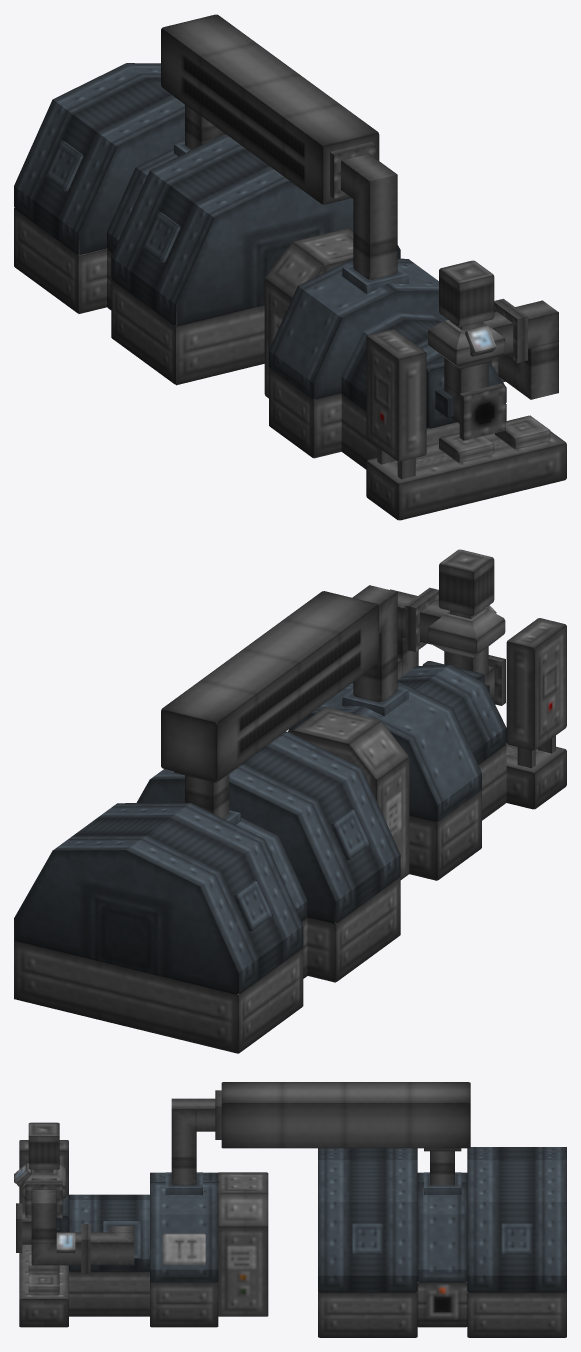
Rendered from steam_turbine_mirrored.obj.
3 views of the same model, one above another, from view 1: azimuth 30°, elevation 25°; view 2: azimuth 150°, elevation 25°; view 3: azimuth 270°, elevation 25° (orthographic). The views are drawn at different scales.
Parts seen in each view (by area): view 1: cube; view 2: cube; view 3: cube.
Boxes of the visible parts, left/top/right/bottom form: cube: left=14, top=14, right=566, bottom=520; cube: left=14, top=549, right=566, bottom=1053; cube: left=14, top=1082, right=566, bottom=1337.
Size of the model in its own units: 4 by 4.5 by 11.11.
